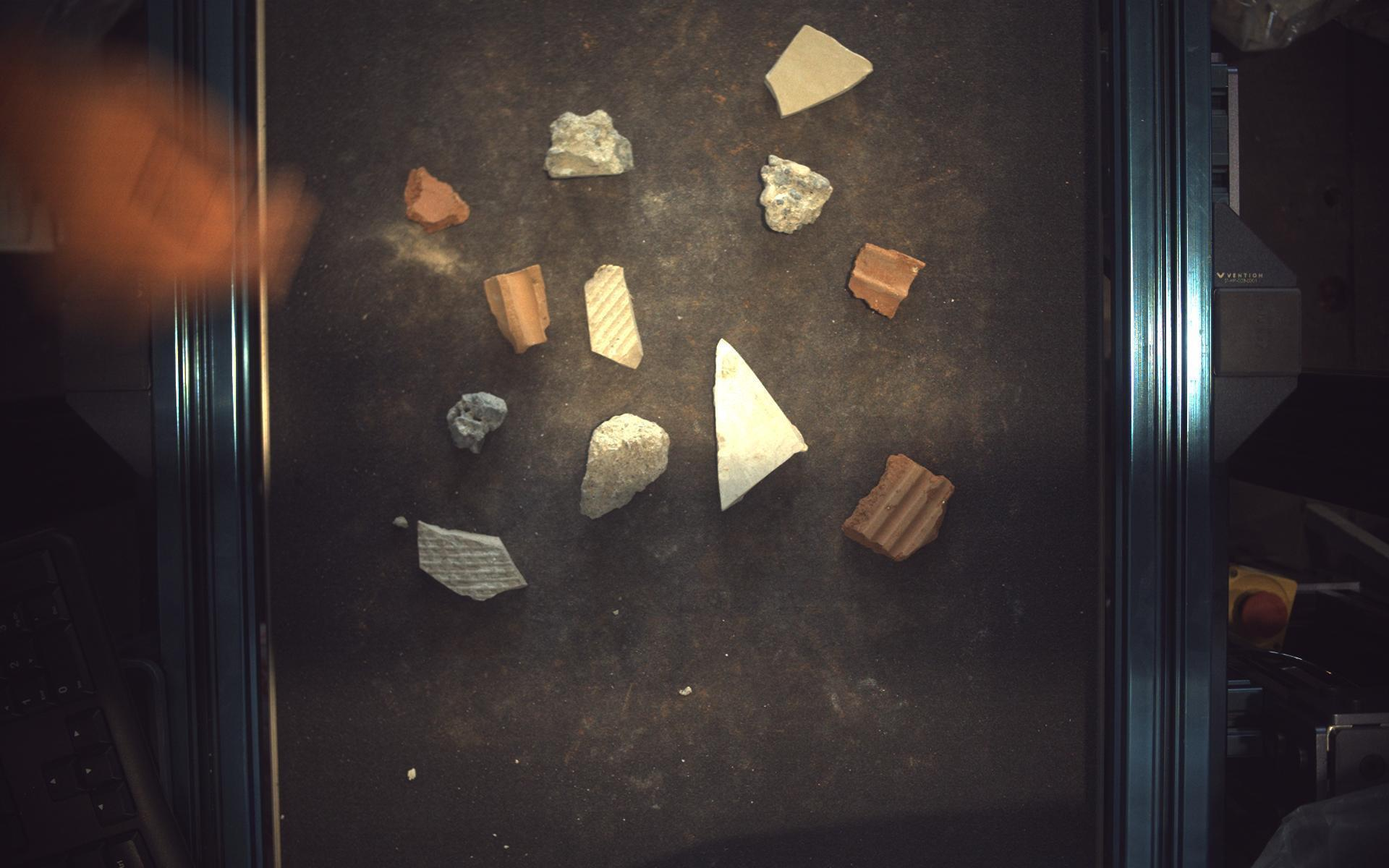brick: (844, 454, 956, 562), (484, 264, 551, 353), (850, 243, 927, 317), (404, 166, 470, 232)
concrete: (581, 413, 670, 519), (544, 109, 634, 178), (761, 153, 834, 233), (447, 392, 508, 454)
tile: (715, 339, 810, 511), (767, 24, 874, 116), (417, 521, 527, 601), (585, 264, 644, 368)
